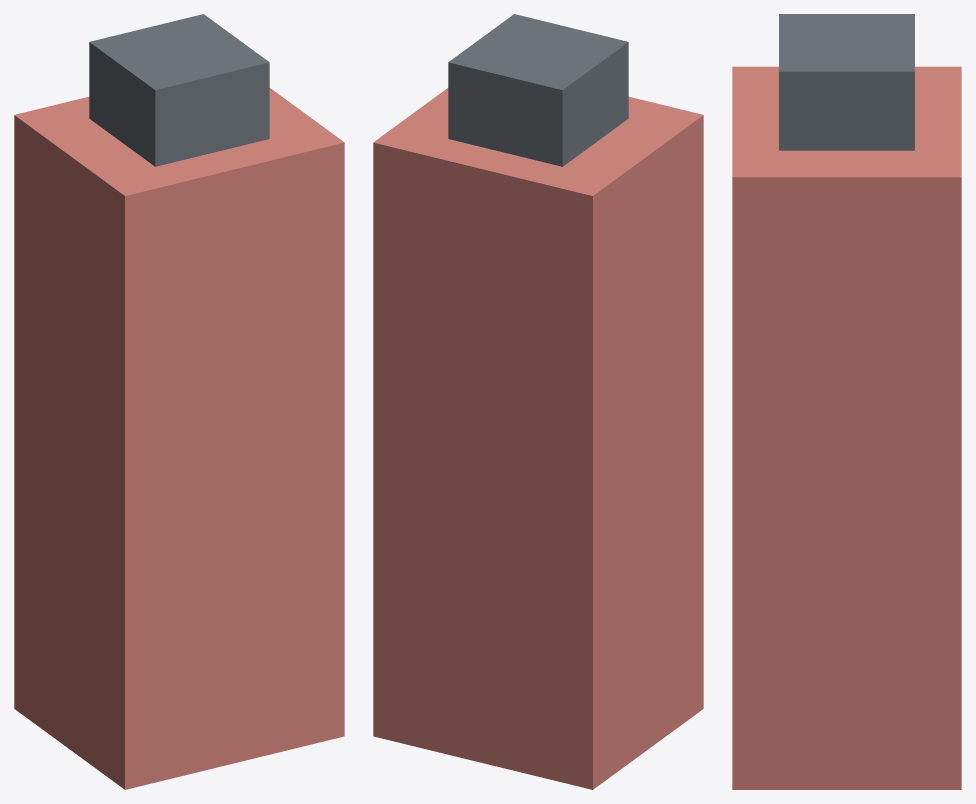
The model's file is extinguisher_lod0.glb.
The picture shows the model from 3 angles, left to right: view 1: azimuth 30°, elevation 25°; view 2: azimuth 150°, elevation 25°; view 3: azimuth 270°, elevation 25°; orthographic projection. The views are drawn at different scales.
Visible parts, largest first — view 1: extinguisher-node-0, extinguisher-node-1; view 2: extinguisher-node-0, extinguisher-node-1; view 3: extinguisher-node-0, extinguisher-node-1.
Part boxes in pixels (x1,y1,x2,y2): extinguisher-node-0: (14,88,344,789); extinguisher-node-1: (89,14,269,166); extinguisher-node-0: (373,88,703,789); extinguisher-node-1: (448,14,628,166); extinguisher-node-0: (732,66,961,789); extinguisher-node-1: (779,14,914,150).
Size of the model in its own units: 0.48 by 1.4 by 0.42.
